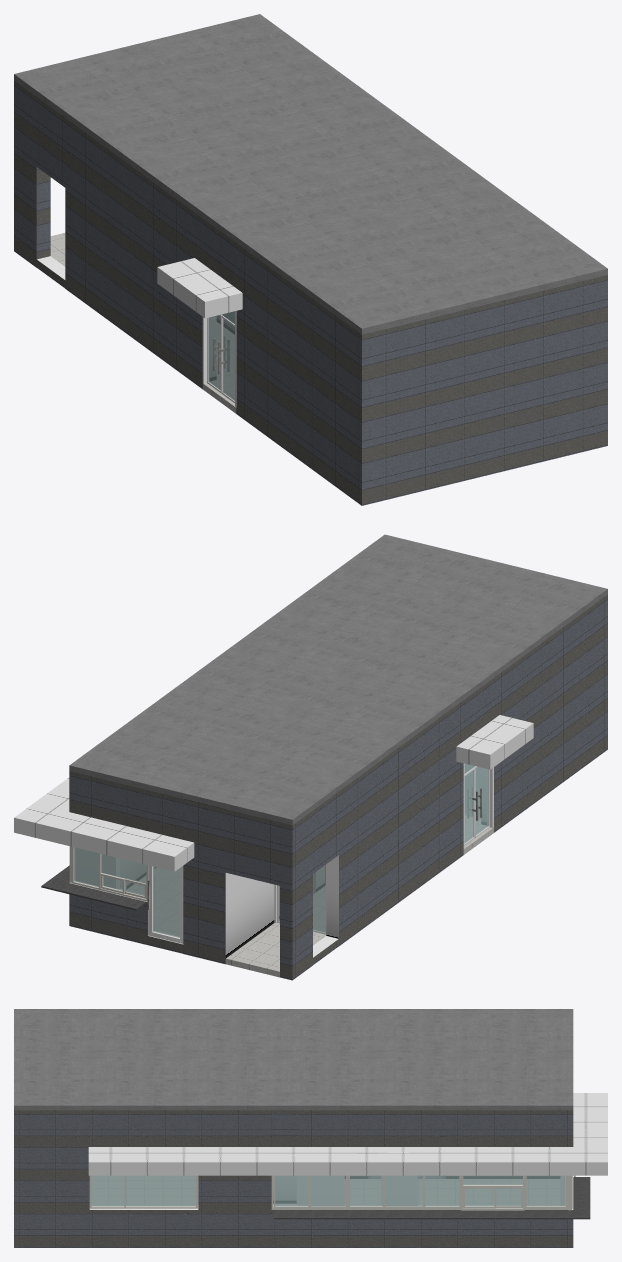
Rendered from 14-GC-OUT-security-office-B.glb.
3 renders of one model, top to bottom at view 1: azimuth 30°, elevation 25°; view 2: azimuth 150°, elevation 25°; view 3: azimuth 270°, elevation 25°, orthographic. The views are drawn at different scales.
Parts seen in each view (by area): view 1: Box005, roof, Line001, Rectangle914, Box099; view 2: roof, Box005, Line001, Rectangle914, Box099, Line133, Line1545; view 3: roof, Box005, Line001, Line133, Box099, Line1545.
Part boxes in pixels (bbox=[...]): Box005: bbox=[14, 80, 607, 505]; roof: bbox=[14, 14, 607, 334]; Line001: bbox=[157, 258, 242, 318]; Rectangle914: bbox=[202, 311, 236, 406]; Box099: bbox=[50, 233, 236, 413]; roof: bbox=[69, 534, 607, 825]; Box005: bbox=[69, 595, 607, 980]; Line001: bbox=[14, 715, 533, 871]; Rectangle914: bbox=[147, 763, 493, 943]; Box099: bbox=[127, 816, 493, 977]; Line133: bbox=[69, 846, 148, 901]; Line1545: bbox=[41, 865, 145, 910]; roof: bbox=[14, 1009, 573, 1110]; Box005: bbox=[14, 1110, 573, 1247]; Line001: bbox=[88, 1093, 607, 1175]; Line133: bbox=[89, 1175, 572, 1210]; Box099: bbox=[92, 1176, 559, 1204]; Line1545: bbox=[274, 1177, 590, 1219].
Size of the model in its own units: 8.2 by 4.3 by 16.25.
Materials: 13 (11 with a texture image).
